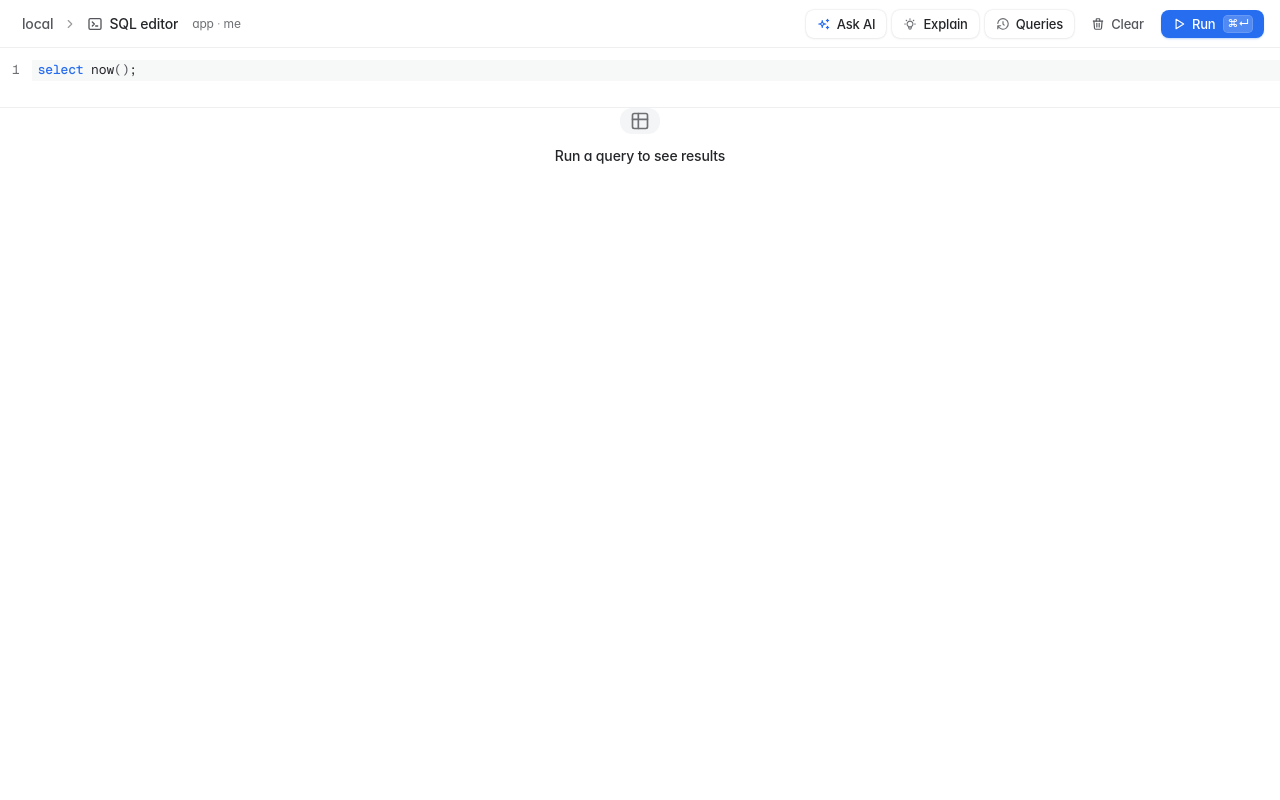
Scenario: generated SQL › lands in the editor for review instead of running itself
Expected: the element with test id "sql-editor" is shown, [0,48,1279,107]
Click the button "Ask AI" at (846, 24), box [806,10,886,38]
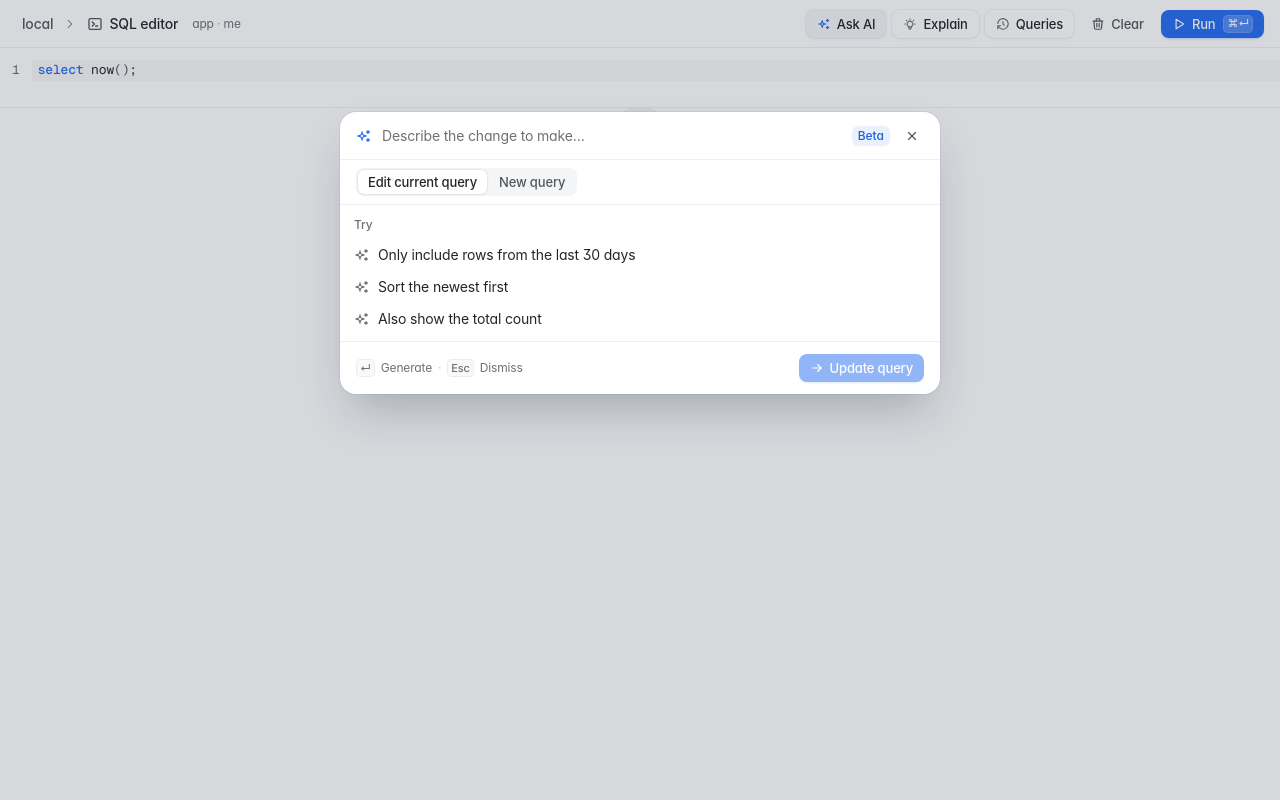
Type "remove the test users" into the field with placeholder "Describe the change to make…" at (612, 136), box [382,126,842,146]
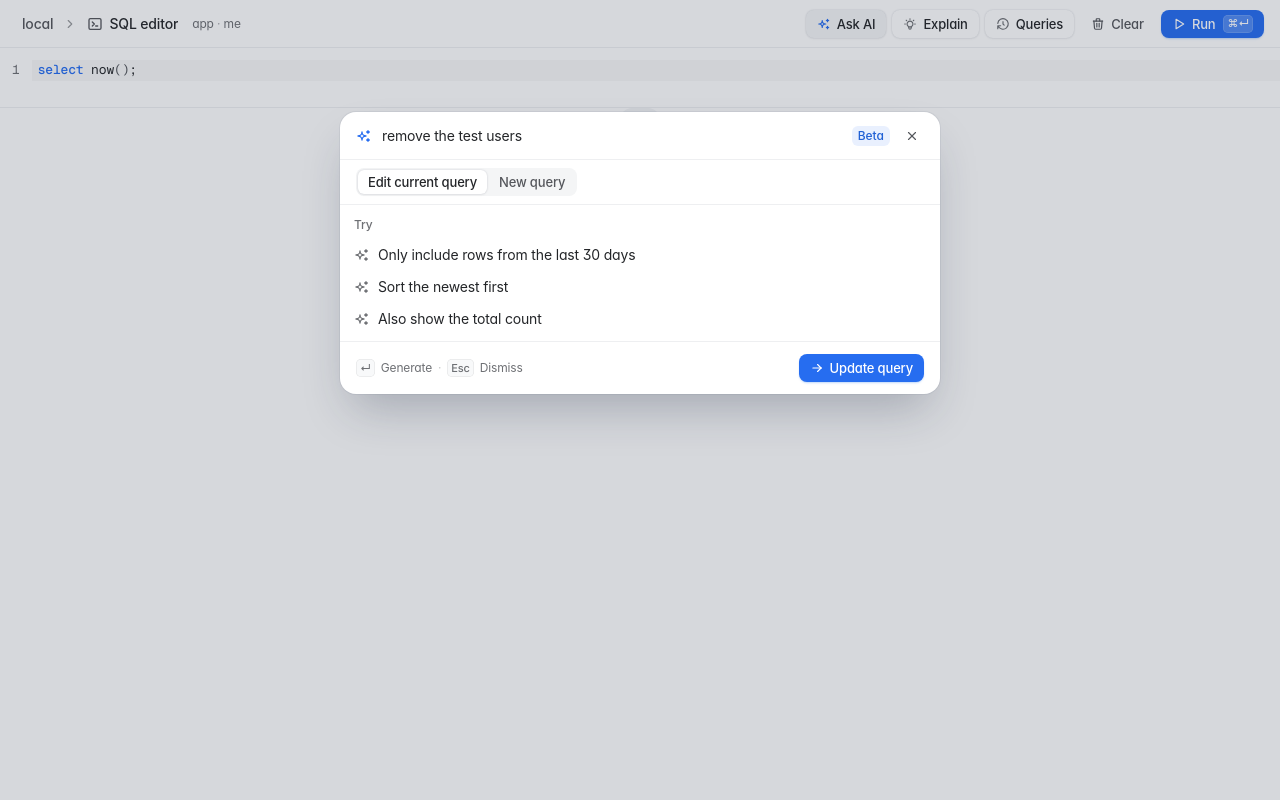
Press Enter in the field with placeholder "Describe the change to make…", box [382,126,842,146]
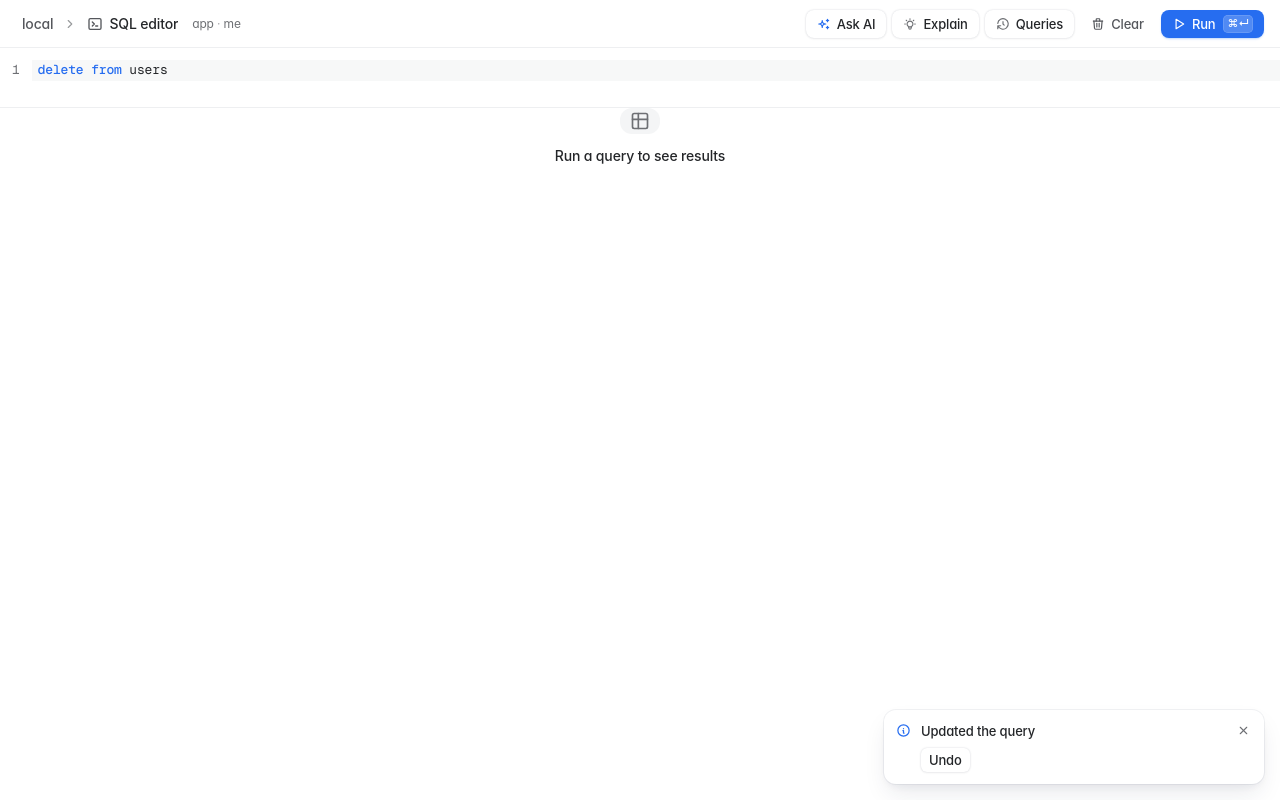
Now the text box labelled "delete from users" is shown, box [32,60,1279,81]
